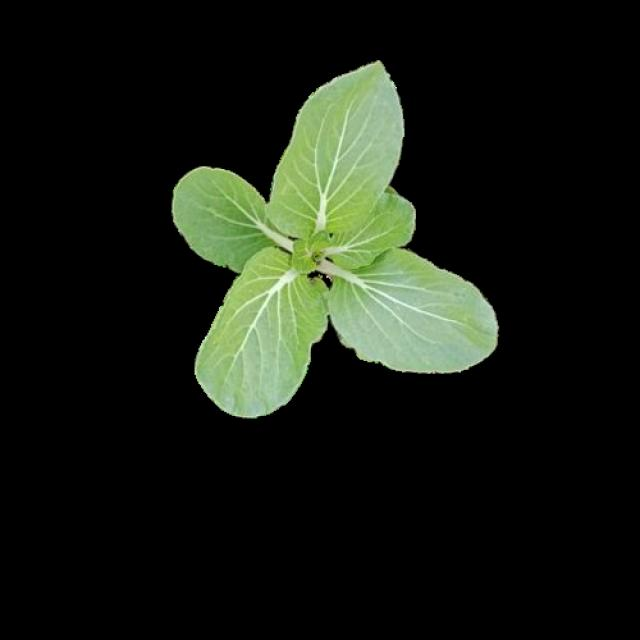healthy: (172, 56, 496, 415)
not-mature: (174, 59, 498, 417)
